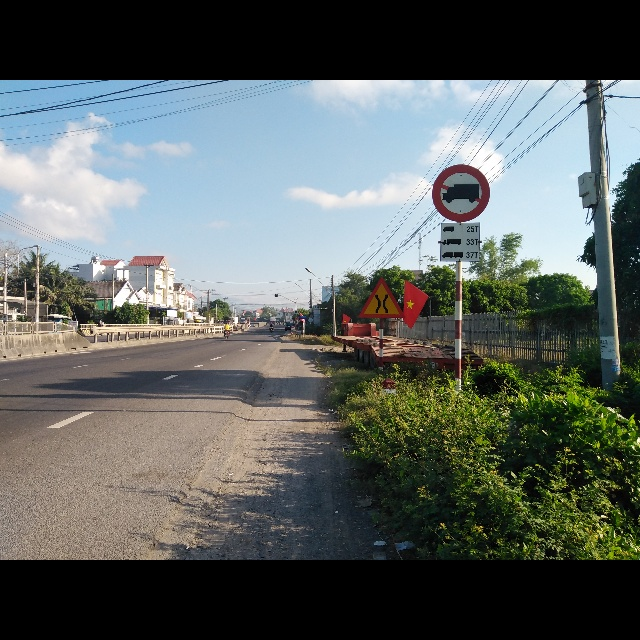Cấm xe tải: (431, 162, 491, 221)
Cầu hẹp: (358, 278, 403, 318)
